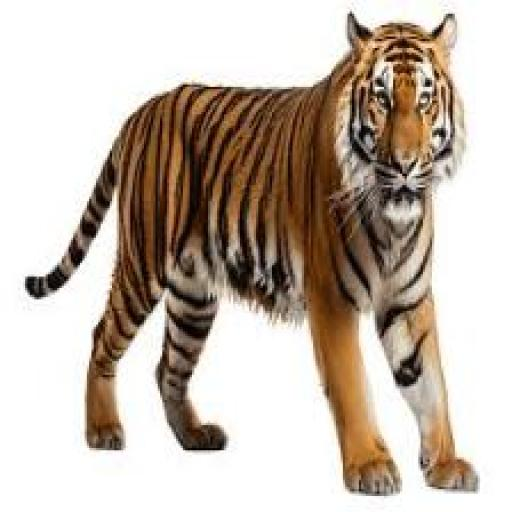Tiger: (11, 9, 502, 512), (24, 14, 480, 495)
